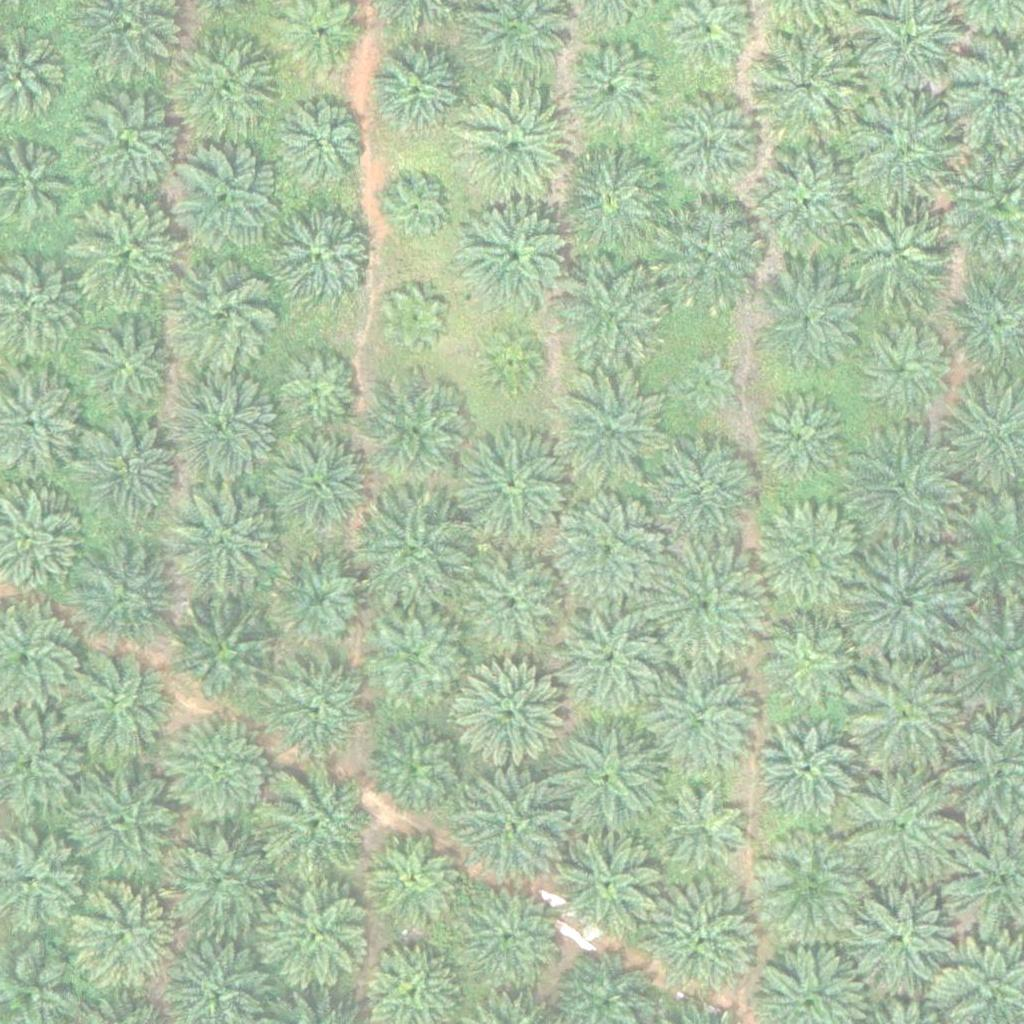Kelapa_Sawit: (847, 424, 960, 538), (753, 268, 866, 382), (172, 596, 285, 710), (57, 648, 170, 762), (164, 714, 277, 828), (262, 767, 375, 881), (259, 878, 372, 992), (71, 93, 184, 206), (365, 31, 478, 144), (457, 93, 570, 206), (746, 30, 859, 143), (851, 98, 964, 211), (842, 197, 955, 310), (847, 546, 960, 659), (751, 149, 864, 262), (550, 370, 663, 483), (554, 493, 667, 606), (459, 204, 572, 317), (456, 430, 569, 543), (164, 259, 277, 372), (168, 372, 281, 485), (169, 487, 282, 600), (69, 197, 182, 310), (71, 317, 184, 430), (160, 827, 273, 940), (456, 660, 569, 773), (549, 605, 662, 718), (552, 719, 665, 832), (553, 824, 666, 937), (647, 884, 760, 997), (848, 659, 961, 772), (559, 34, 671, 148), (653, 203, 765, 317), (556, 146, 668, 260), (67, 536, 179, 650), (166, 31, 278, 144), (754, 501, 866, 614), (648, 435, 760, 548), (650, 548, 762, 661), (559, 259, 671, 372), (456, 549, 568, 662), (360, 376, 472, 489), (359, 498, 471, 611), (268, 203, 380, 316), (262, 434, 374, 547), (168, 144, 280, 257), (72, 419, 184, 532), (69, 766, 181, 879), (70, 881, 182, 994), (454, 773, 566, 886), (452, 883, 564, 996), (644, 666, 756, 779), (756, 829, 868, 942), (850, 771, 962, 884), (848, 877, 960, 990), (270, 551, 370, 652), (370, 606, 470, 707), (371, 716, 471, 817), (655, 784, 755, 885), (759, 606, 859, 707), (755, 717, 855, 818), (662, 95, 762, 195), (852, 318, 952, 418), (750, 387, 850, 487), (273, 656, 373, 756), (369, 831, 469, 931), (277, 104, 365, 192), (274, 344, 362, 432), (480, 331, 543, 394), (388, 177, 451, 240), (383, 288, 446, 351), (677, 351, 739, 414)
